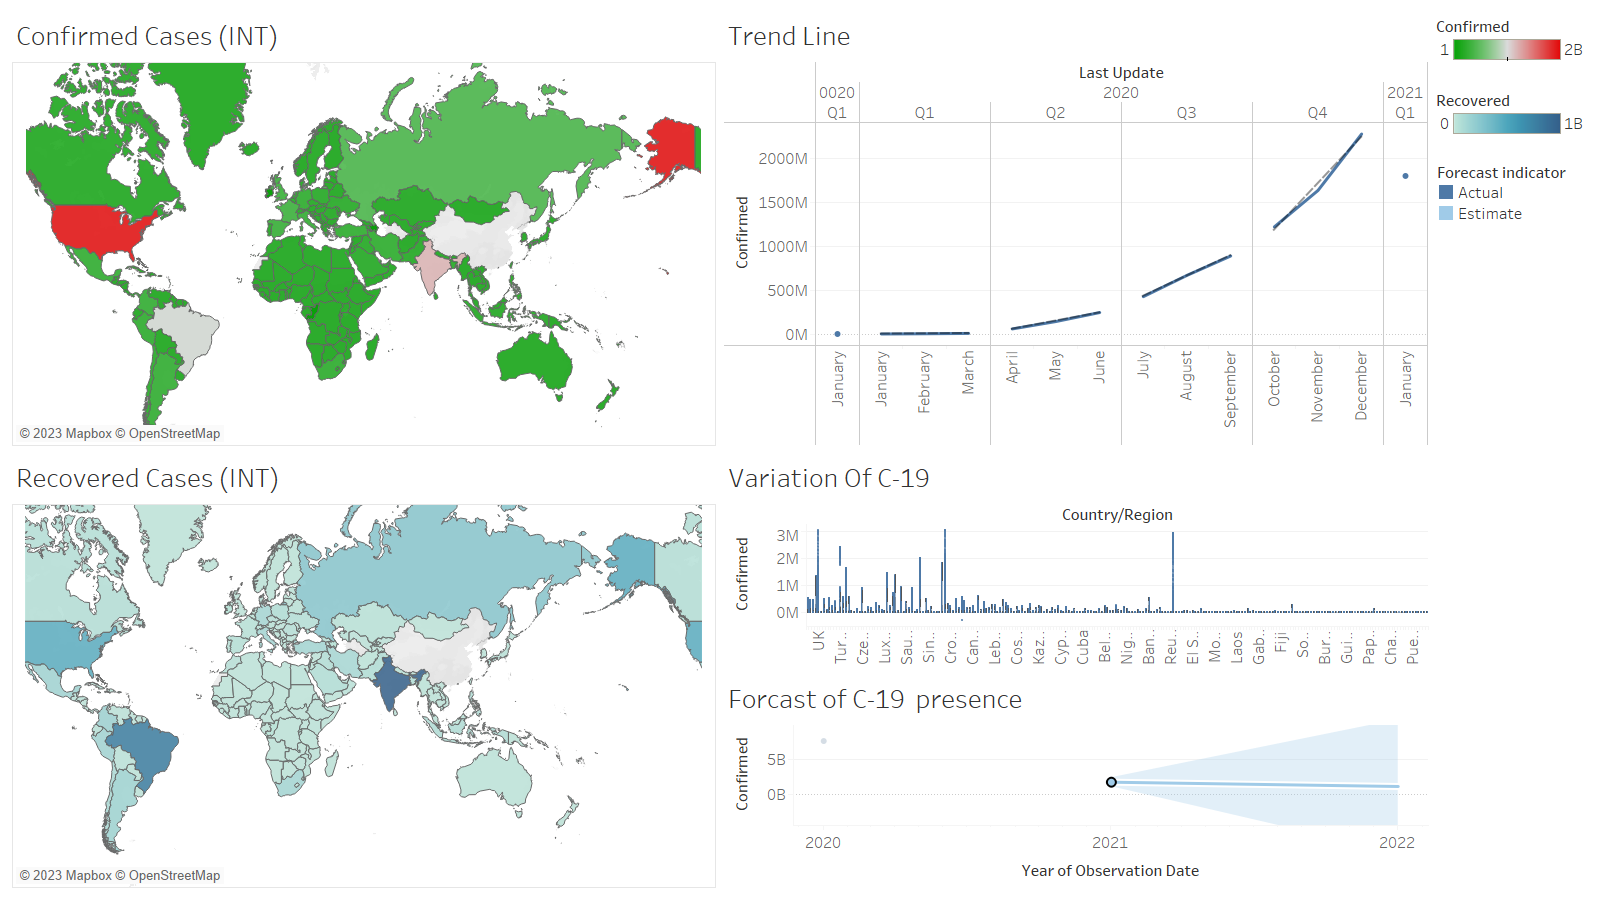

The page's visual inventory and layout, read from the dashboard file:
{"tool":"tableau","page":{"name":"C-19 INTERNATION DASHBOARD","canvas":[1600,900],"ordinal":0},"visuals":[{"type":"worksheet","title":"Confirmed Cases (INT)","mark":"Automatic","box":[8,8,712,442]},{"type":"worksheet","title":"Trend Line","mark":"Line","rows":["Confirmed"],"cols":["Last Update","Last Update","Last Update"],"box":[720,8,712,442]},{"type":"legend","title":"Confirmed Cases (INT)","param":"[federated.18mwjmo078ul0m17ud8lf1o7t018].[sum:Confirmed:qk]","box":[1432,8,160,73]},{"type":"legend","title":"Recovered Cases (INT)","param":"[federated.18mwjmo078ul0m17ud8lf1o7t018].[sum:Recovered:qk]","box":[1432,81,160,73]},{"type":"legend","title":"Forcast of C-19  presence","param":"[federated.18mwjmo078ul0m17ud8lf1o7t018].[none:Forecast Indicator:nk]","box":[1432,154,160,72]},{"type":"worksheet","title":"Recovered Cases (INT)","mark":"Automatic","box":[8,450,712,442]},{"type":"worksheet","title":"Variation Of C-19","mark":"Circle","rows":["Confirmed"],"cols":["Country/Region"],"box":[720,450,712,221]},{"type":"worksheet","title":"Forcast of C-19  presence","mark":"Automatic","rows":["Confirmed"],"cols":["ObservationDate"],"box":[720,671,712,221]}]}

Visuals, with their boxes in screenshot pixels (x1, y1, x2, y2), scaled from the page's 1600x900 canvas onto the 1600x900 screenshot:
"Confirmed Cases (INT)" worksheet: detection(8, 8, 720, 450)
"Trend Line" worksheet (Line marks): detection(720, 8, 1432, 450)
"Confirmed Cases (INT)" legend: detection(1432, 8, 1592, 81)
"Recovered Cases (INT)" legend: detection(1432, 81, 1592, 154)
"Forcast of C-19  presence" legend: detection(1432, 154, 1592, 226)
"Recovered Cases (INT)" worksheet: detection(8, 450, 720, 892)
"Variation Of C-19" worksheet (Circle marks): detection(720, 450, 1432, 671)
"Forcast of C-19  presence" worksheet: detection(720, 671, 1432, 892)
